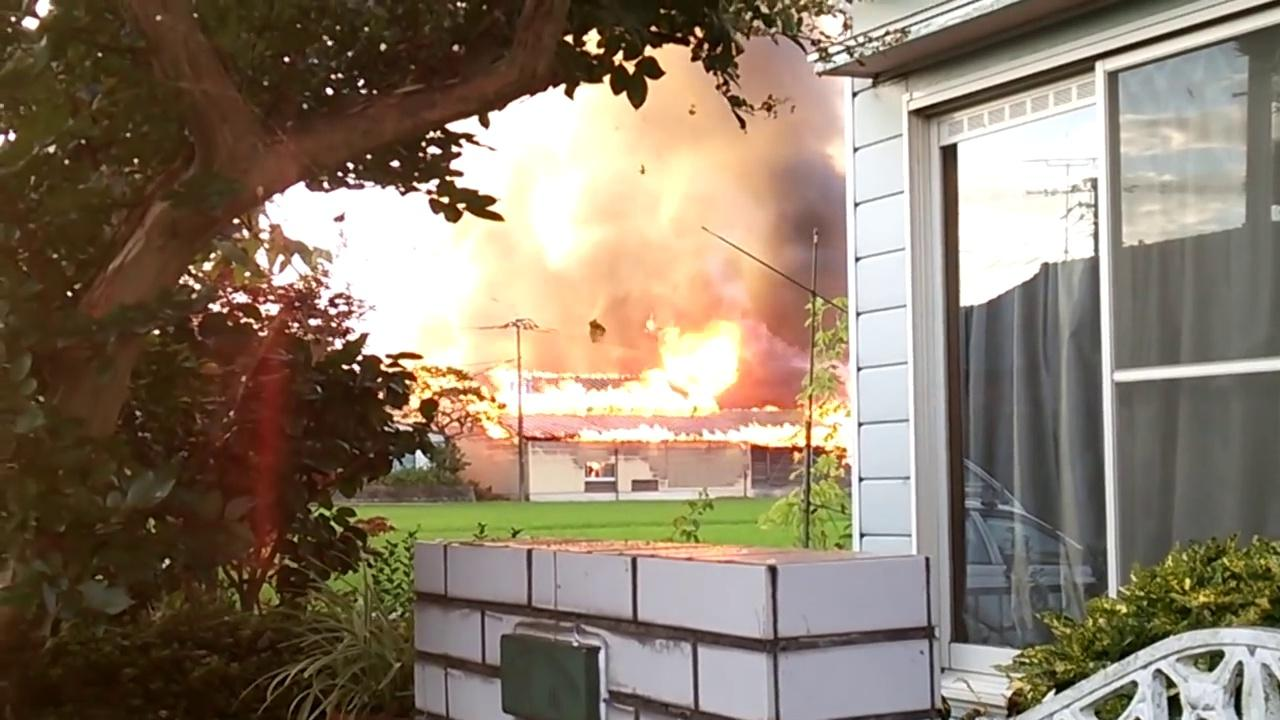fire: (498, 328, 725, 414), (414, 371, 508, 438), (571, 425, 797, 451), (743, 399, 780, 412)
